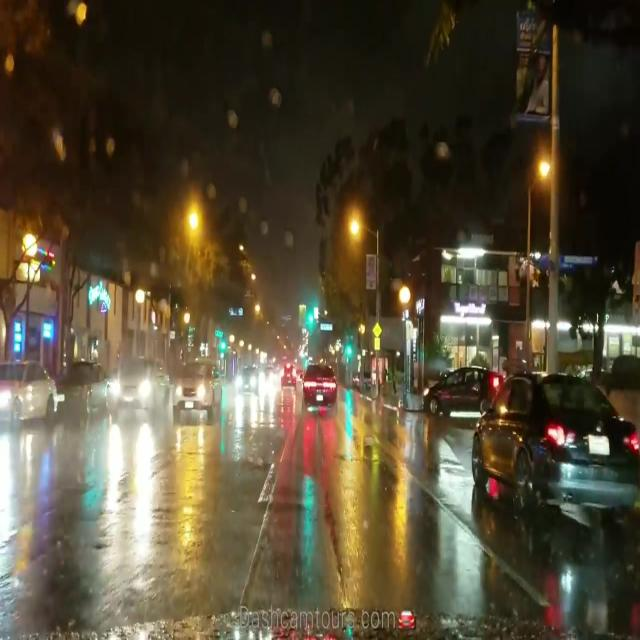Car: (470, 362, 632, 540), (0, 359, 55, 427), (110, 357, 167, 412), (418, 364, 479, 414), (58, 362, 111, 418), (173, 358, 222, 417), (300, 363, 335, 400)
